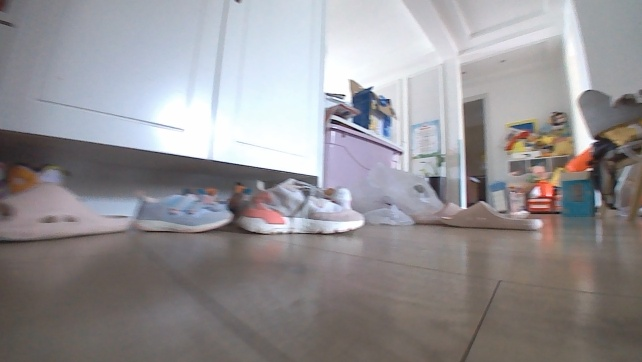shoe: (237, 172, 367, 239), (132, 185, 236, 234)
slipper: (0, 183, 130, 244), (440, 199, 544, 233), (409, 199, 464, 226)
